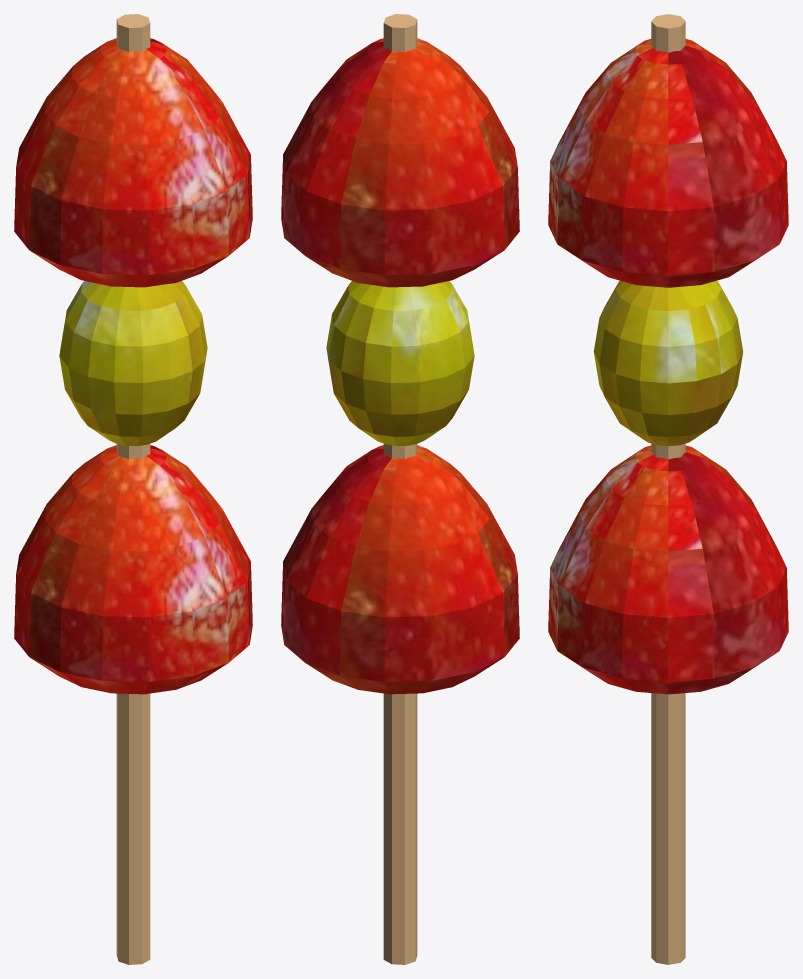
Rendered from tanghulu-sgs.glb.
The picture shows the model from 3 angles, left to right: view 1: azimuth 30°, elevation 25°; view 2: azimuth 150°, elevation 25°; view 3: azimuth 270°, elevation 25°; orthographic projection.
Parts seen in each view (by area): view 1: Strawberry, Strawberry.001, Grape, Cylinder; view 2: Strawberry, Strawberry.001, Grape, Cylinder; view 3: Strawberry, Strawberry.001, Grape, Cylinder.
Boxes of the visible parts, left/top/right/bottom form: Strawberry: left=14, top=445, right=252, bottom=694; Strawberry.001: left=14, top=38, right=252, bottom=287; Grape: left=59, top=281, right=207, bottom=445; Cylinder: left=116, top=14, right=150, bottom=964; Strawberry: left=281, top=445, right=519, bottom=694; Strawberry.001: left=281, top=38, right=519, bottom=287; Grape: left=326, top=281, right=474, bottom=445; Cylinder: left=383, top=14, right=417, bottom=964; Strawberry: left=548, top=445, right=788, bottom=694; Strawberry.001: left=548, top=39, right=788, bottom=287; Grape: left=593, top=280, right=743, bottom=446; Cylinder: left=651, top=14, right=685, bottom=964.
Bounding box in the file's own units: 0.9658 × 4.15 × 0.9658.
Materials: 2 (2 with a texture image).
